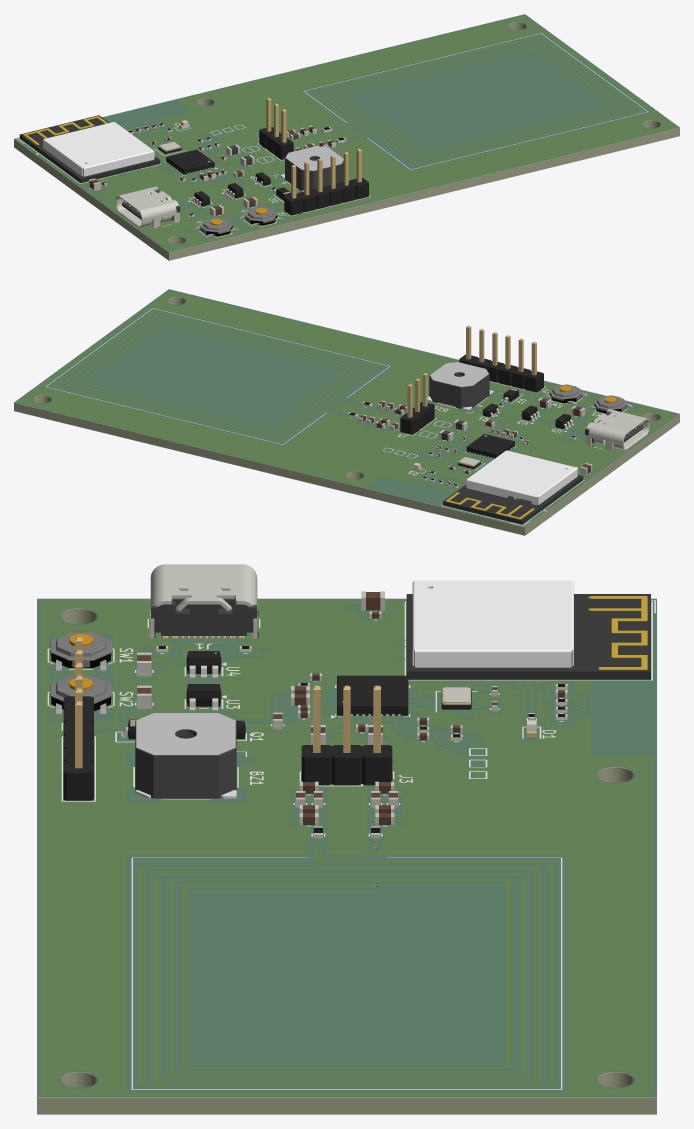
File: nfc_reader.glb
3 views of the same model, one above another, from view 1: azimuth 30°, elevation 25°; view 2: azimuth 150°, elevation 25°; view 3: azimuth 270°, elevation 25° (orthographic). The views are drawn at different scales.
Parts seen in each view (by area): view 1: =>[0:1:1:316], =>[0:1:1:313], =>[0:1:1:318], NAUO2, =>[0:1:1:31], =>[0:1:1:15], =>[0:1:1:23], NAUO240, =>[0:1:1:315], =>[0:1:1:17], =>[0:1:1:29] (×2), =>[0:1:1:308] (+1 smaller); view 2: =>[0:1:1:316], =>[0:1:1:313], =>[0:1:1:318], NAUO2, =>[0:1:1:31], =>[0:1:1:23], NAUO240, =>[0:1:1:15], =>[0:1:1:315], =>[0:1:1:17], =>[0:1:1:29] (×2), =>[0:1:1:308] (+2 smaller); view 3: =>[0:1:1:316], =>[0:1:1:313], =>[0:1:1:318], NAUO2, =>[0:1:1:23], NAUO240, =>[0:1:1:15], =>[0:1:1:17], =>[0:1:1:315], =>[0:1:1:31], =>[0:1:1:29] (×2), =>[0:1:1:308] (+3 smaller).
Boxes of the visible parts, box(x1,y1,x2,y2) form: =>[0:1:1:316]: box(14, 14, 679, 251); =>[0:1:1:313]: box(33, 16, 675, 250); =>[0:1:1:318]: box(14, 15, 679, 260); NAUO2: box(43, 122, 154, 176); =>[0:1:1:31]: box(284, 148, 368, 215); =>[0:1:1:15]: box(115, 186, 180, 228); =>[0:1:1:23]: box(280, 146, 343, 191); NAUO240: box(19, 115, 160, 182); =>[0:1:1:315]: box(16, 33, 648, 237); =>[0:1:1:17]: box(259, 98, 293, 159); =>[0:1:1:29] (×2): box(194, 206, 283, 238); =>[0:1:1:308]: box(166, 149, 214, 174); =>[0:1:1:316]: box(14, 289, 679, 526); =>[0:1:1:313]: box(18, 291, 676, 514); =>[0:1:1:318]: box(14, 290, 679, 535); NAUO2: box(466, 450, 577, 505); =>[0:1:1:31]: box(459, 325, 543, 392); =>[0:1:1:23]: box(427, 362, 493, 410); NAUO240: box(443, 475, 583, 524); =>[0:1:1:15]: box(585, 409, 649, 451); =>[0:1:1:315]: box(45, 308, 627, 526); =>[0:1:1:17]: box(400, 373, 434, 434); =>[0:1:1:29] (×2): box(543, 384, 632, 413); =>[0:1:1:308]: box(466, 434, 514, 458); =>[0:1:1:316]: box(37, 598, 656, 1097); =>[0:1:1:313]: box(41, 601, 652, 1095); =>[0:1:1:318]: box(37, 600, 656, 1114); NAUO2: box(412, 580, 573, 667); =>[0:1:1:23]: box(135, 713, 236, 798); NAUO240: box(406, 594, 650, 679); =>[0:1:1:15]: box(150, 564, 257, 638); =>[0:1:1:17]: box(301, 685, 392, 785); =>[0:1:1:315]: box(47, 600, 655, 1089); =>[0:1:1:31]: box(63, 637, 93, 800); =>[0:1:1:29] (×2): box(50, 632, 111, 715); =>[0:1:1:308]: box(337, 675, 408, 716).
Size of the model in its own units: 0.099 by 0.0115 by 0.052.
